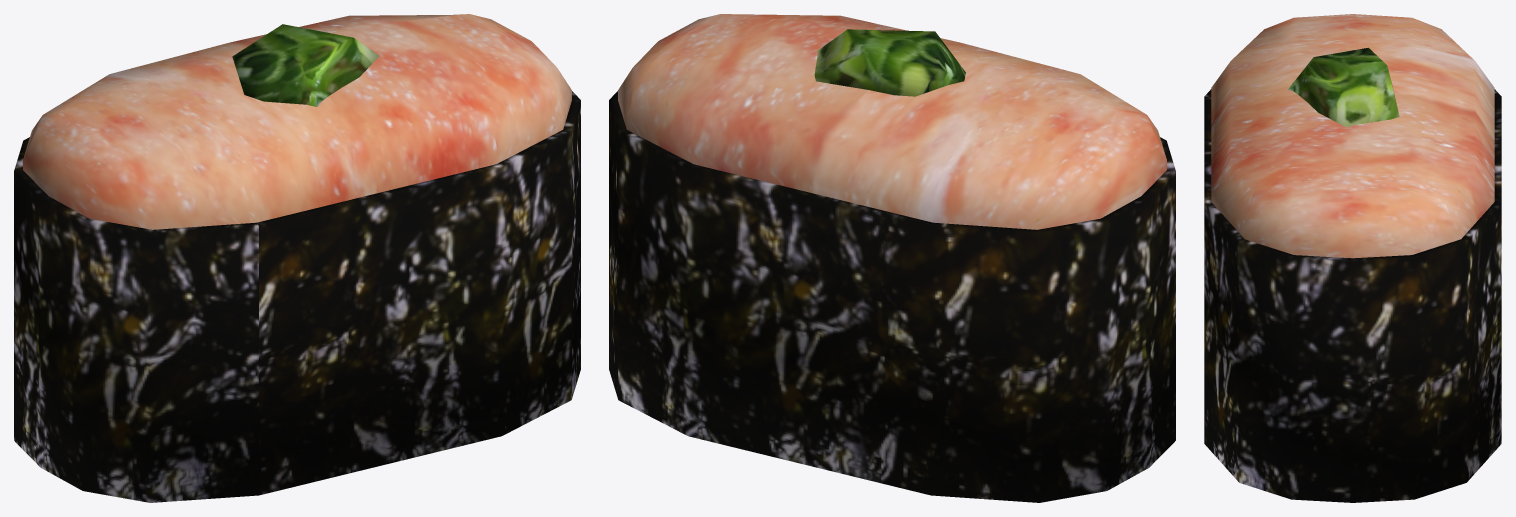
File: negitoro.fbx
3 views of the same model, side by side, from view 1: azimuth 30°, elevation 25°; view 2: azimuth 150°, elevation 25°; view 3: azimuth 270°, elevation 25° (orthographic). The views are drawn at different scales.
Visible parts, largest first — view 1: negitoro; view 2: negitoro; view 3: negitoro.
Part boxes in pixels (box(x1,y1,x2,y2)): negitoro: box(14, 14, 580, 502); negitoro: box(609, 14, 1175, 502); negitoro: box(1204, 14, 1501, 502).
Size of the model in its own units: 5.61 by 3.82 by 3.14.
